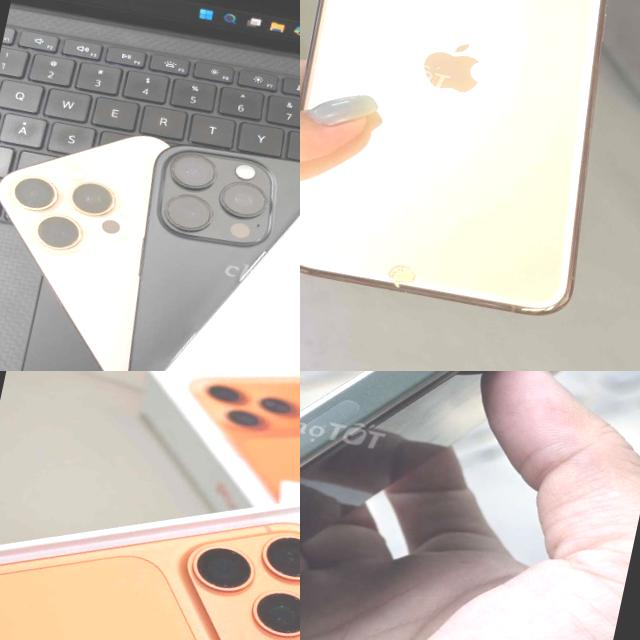gen_11: (300, 0, 640, 334)
gen_16: (92, 140, 300, 371), (300, 371, 481, 545)
gen_17: (0, 371, 223, 640), (0, 502, 300, 640), (0, 518, 300, 640)
